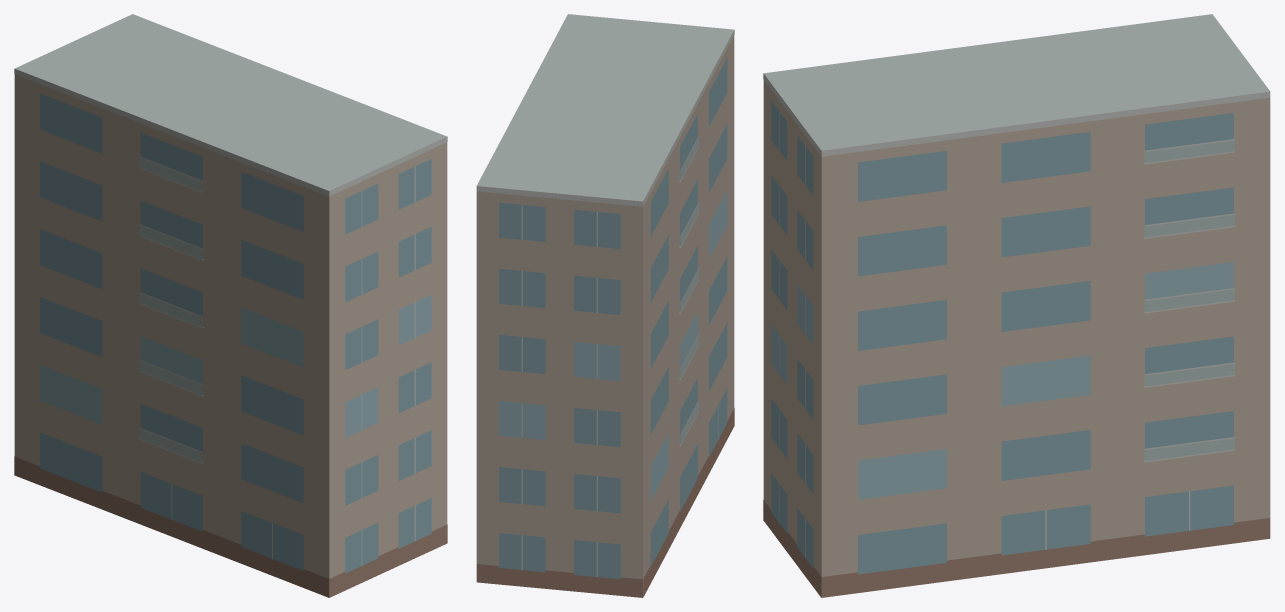
The model's file is survey-upis-32538889.glb.
3 renders of one model, left to right at view 1: azimuth 30°, elevation 25°; view 2: azimuth 150°, elevation 25°; view 3: azimuth 270°, elevation 25°, orthographic. The views are drawn at different scales.
Visible parts, largest first — view 1: survey-upis-32538889.tmp; view 2: survey-upis-32538889.tmp; view 3: survey-upis-32538889.tmp.
Boxes of the visible parts, x1=… form: survey-upis-32538889.tmp: x1=14, y1=14, x2=447, y2=597; survey-upis-32538889.tmp: x1=476, y1=14, x2=734, y2=597; survey-upis-32538889.tmp: x1=763, y1=14, x2=1270, y2=597.
Size of the model in its own units: 11.89 by 18.1 by 18.61.
